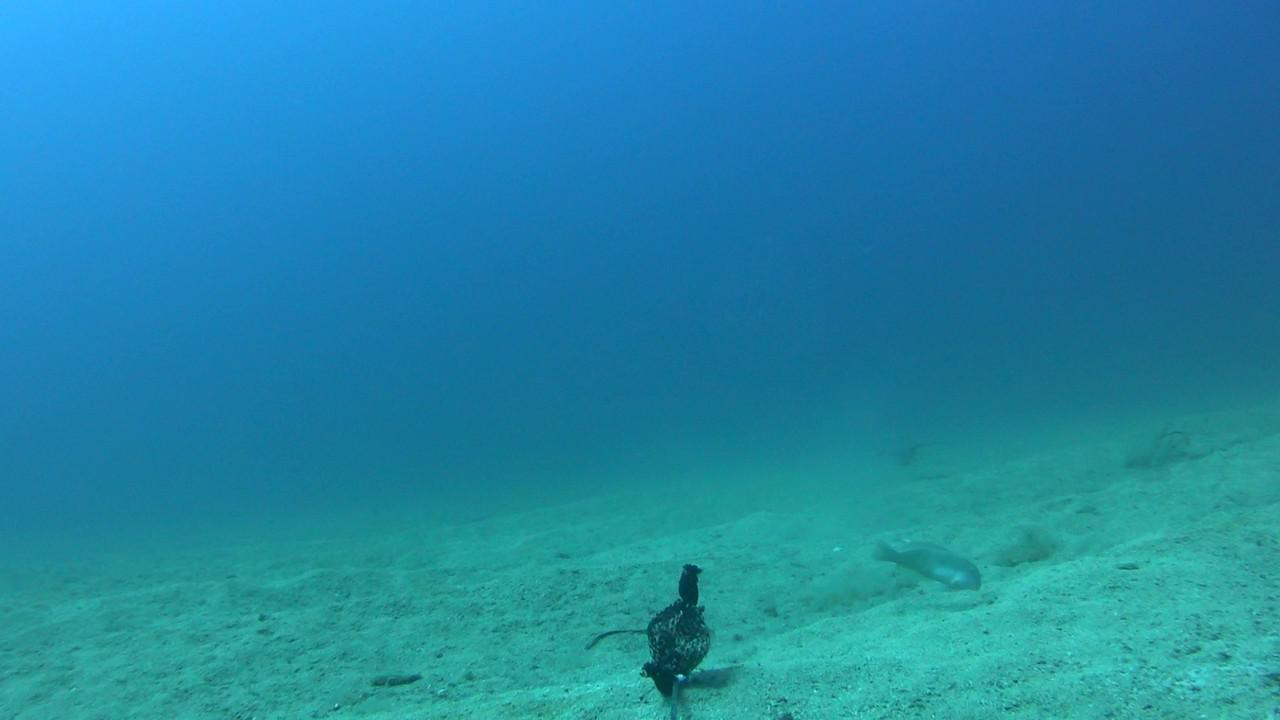myliobatis: (843, 430, 998, 479)
raor: (867, 539, 989, 597)
